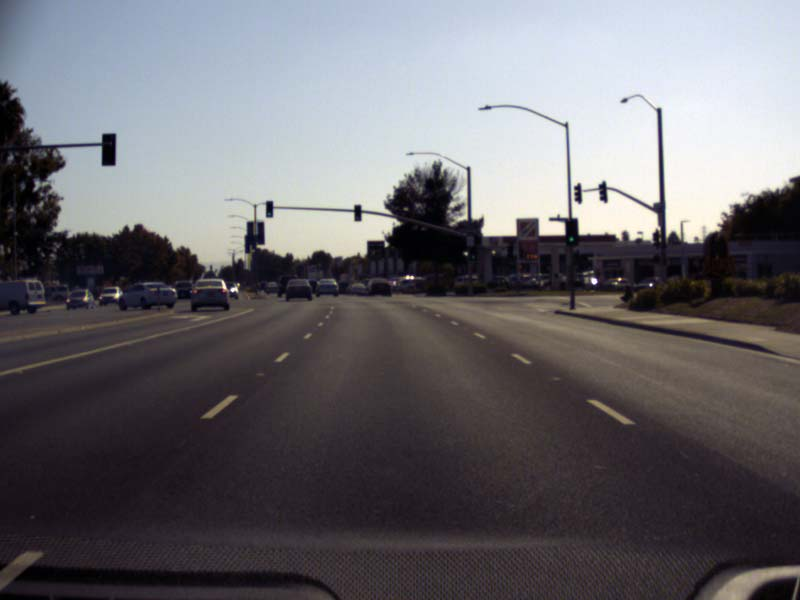Green: (565, 221, 577, 246), (266, 200, 272, 217), (354, 204, 360, 220), (471, 247, 476, 260)
